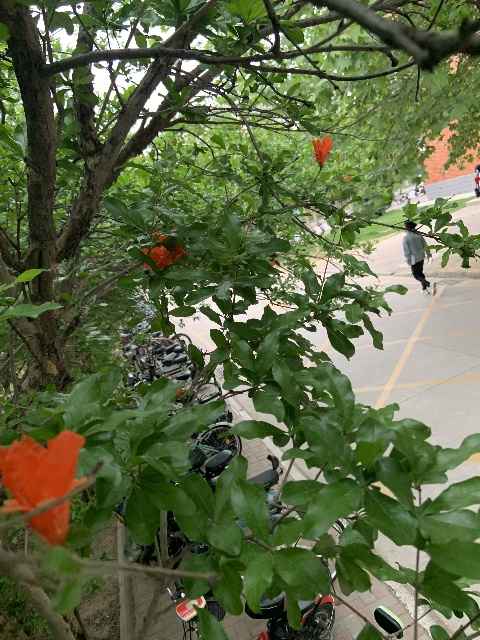bud: (176, 387, 182, 397)
flower: (0, 429, 87, 546), (139, 226, 186, 271), (312, 134, 334, 164)
